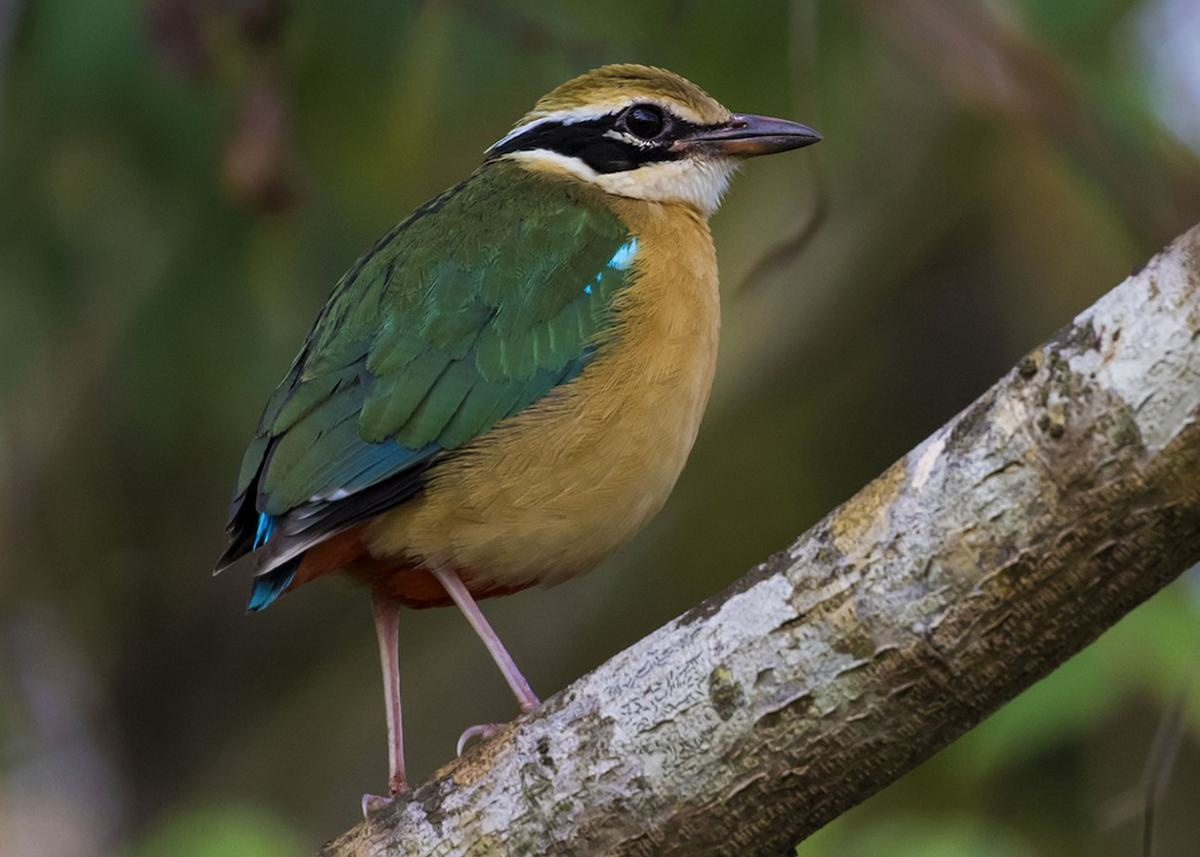pitta: (205, 39, 839, 836)
